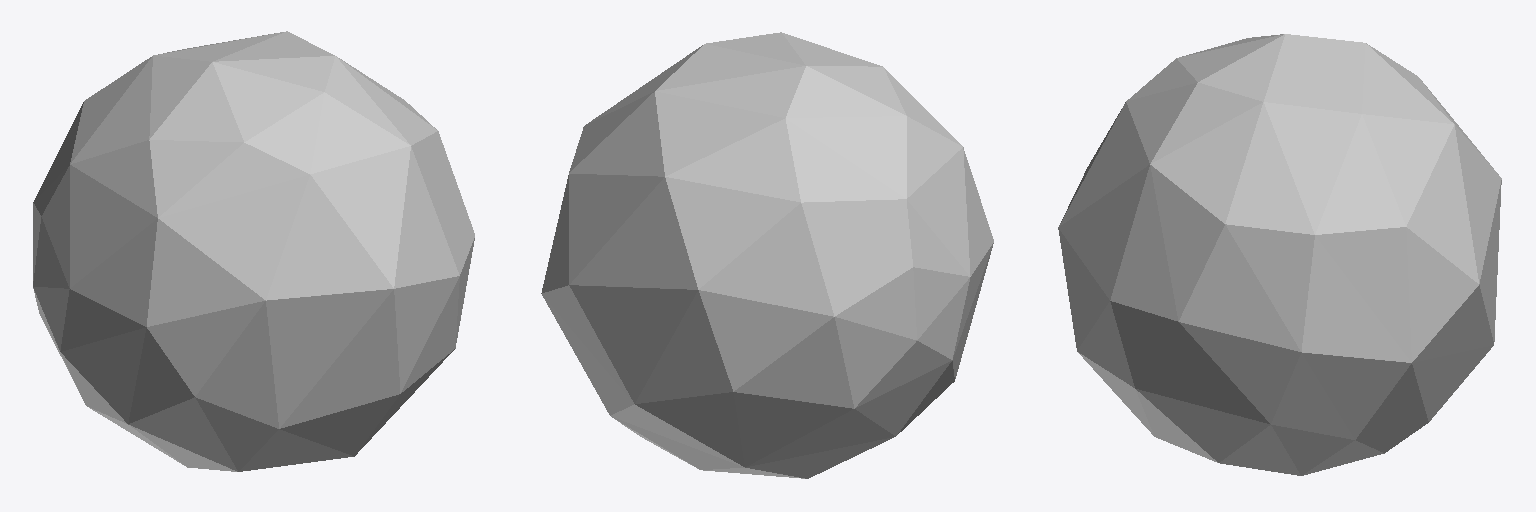
Rendered from leaf.obj.
3 renders of one model, left to right at view 1: azimuth 30°, elevation 25°; view 2: azimuth 150°, elevation 25°; view 3: azimuth 270°, elevation 25°, orthographic.
Size of the model in its own units: 2.03 by 2.01 by 2.